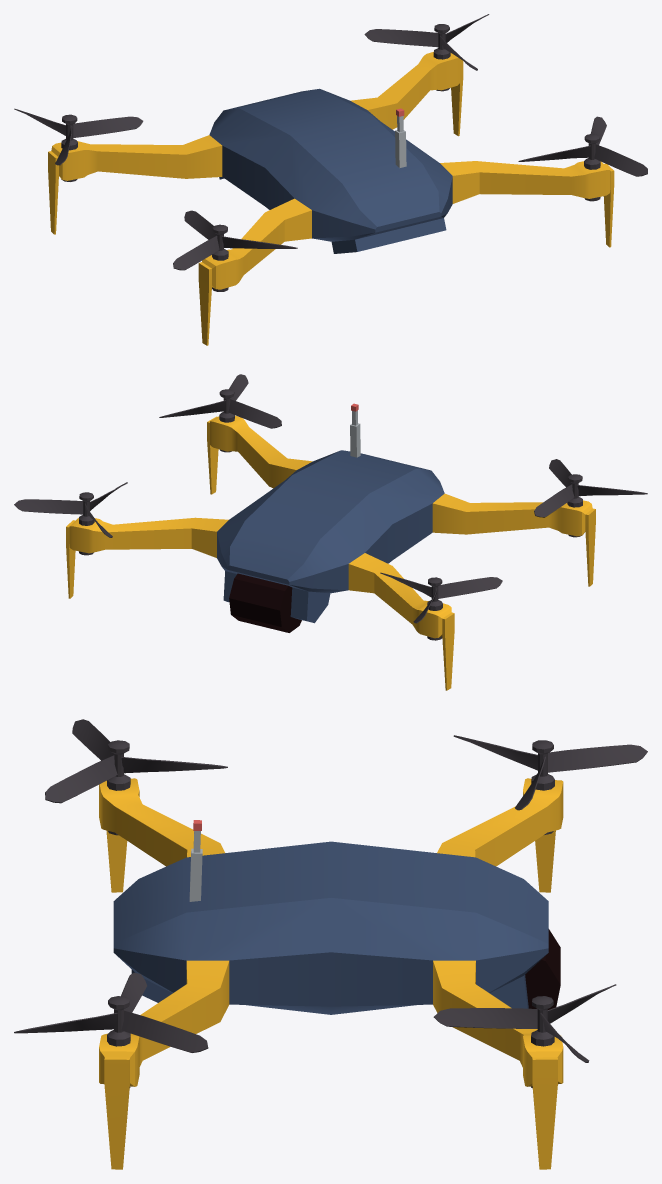
Rendered from Drone.fbx.
The picture shows the model from 3 angles, top to bottom: view 1: azimuth 30°, elevation 25°; view 2: azimuth 150°, elevation 25°; view 3: azimuth 270°, elevation 25°; orthographic projection. The views are drawn at different scales.
Parts seen in each view (by area): view 1: Body, Arms, propellerVR, propellerVL, PropellerHR, PropellerHL, Antena; view 2: Body, Arms, Camera, propellerVL, propellerVR, PropellerHR, PropellerHL; view 3: Body, Arms, propellerVR, propellerVL, PropellerHR, PropellerHL, Camera, Antena.
Part boxes in pixels (box(x1,y1,x2,y2)): Body: box(209, 88, 452, 253); Arms: box(48, 51, 614, 345); propellerVR: box(173, 210, 297, 291); propellerVL: box(518, 116, 647, 201); PropellerHR: box(14, 108, 143, 181); PropellerHL: box(364, 14, 489, 91); Antena: box(395, 116, 406, 167); Body: box(217, 450, 444, 623); Arms: box(66, 415, 595, 690); Camera: box(229, 573, 301, 632); propellerVL: box(159, 374, 281, 452); propellerVR: box(534, 459, 647, 537); PropellerHR: box(380, 572, 502, 640); PropellerHL: box(14, 482, 127, 555); Body: box(113, 841, 548, 1014); Arms: box(99, 778, 563, 1169); propellerVR: box(45, 719, 227, 835); propellerVL: box(14, 972, 208, 1087); PropellerHR: box(453, 735, 647, 834); PropellerHL: box(433, 984, 616, 1087); Camera: box(525, 929, 560, 1009); Antena: box(189, 831, 202, 901).
Bounding box in the file's own units: 152 × 46.56 × 120.
